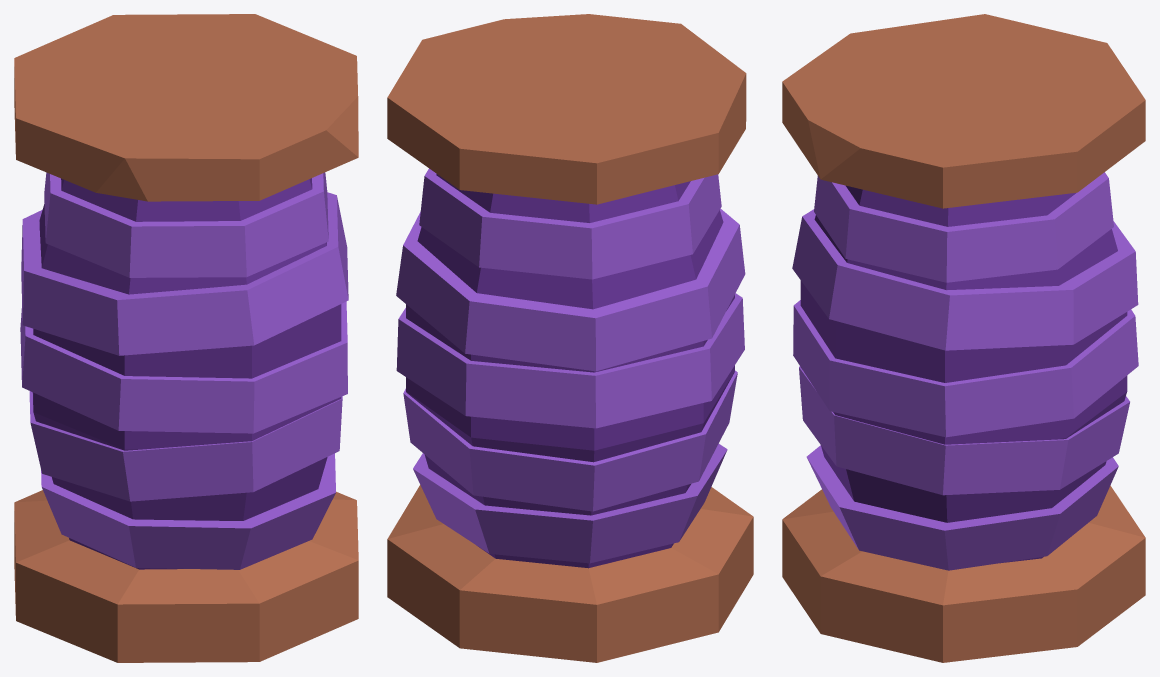
File: Thread 04.fbx
3 views of the same model, side by side, from view 1: azimuth 30°, elevation 25°; view 2: azimuth 150°, elevation 25°; view 3: azimuth 270°, elevation 25° (orthographic).
Parts seen in each view (by area): view 1: Thread 01.003; view 2: Thread 01.003; view 3: Thread 01.003.
Part boxes in pixels (box(x1,y1,x2,y2)): Thread 01.003: box(14, 14, 358, 662); Thread 01.003: box(387, 14, 753, 662); Thread 01.003: box(782, 14, 1145, 662).
Size of the model in its own units: 32.96 by 49.53 by 32.94.
